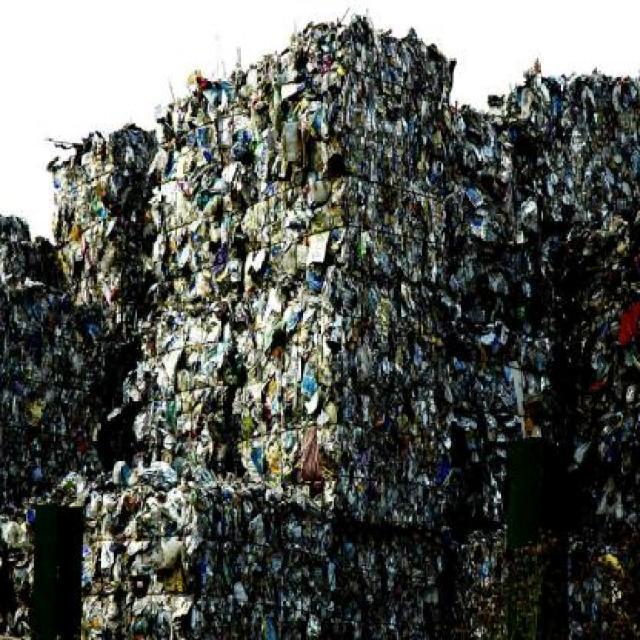garbage: (165, 31, 450, 607), (449, 76, 633, 639), (92, 135, 140, 626), (5, 203, 76, 499)
